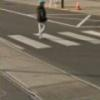crosswalks: (1, 30, 100, 50)
